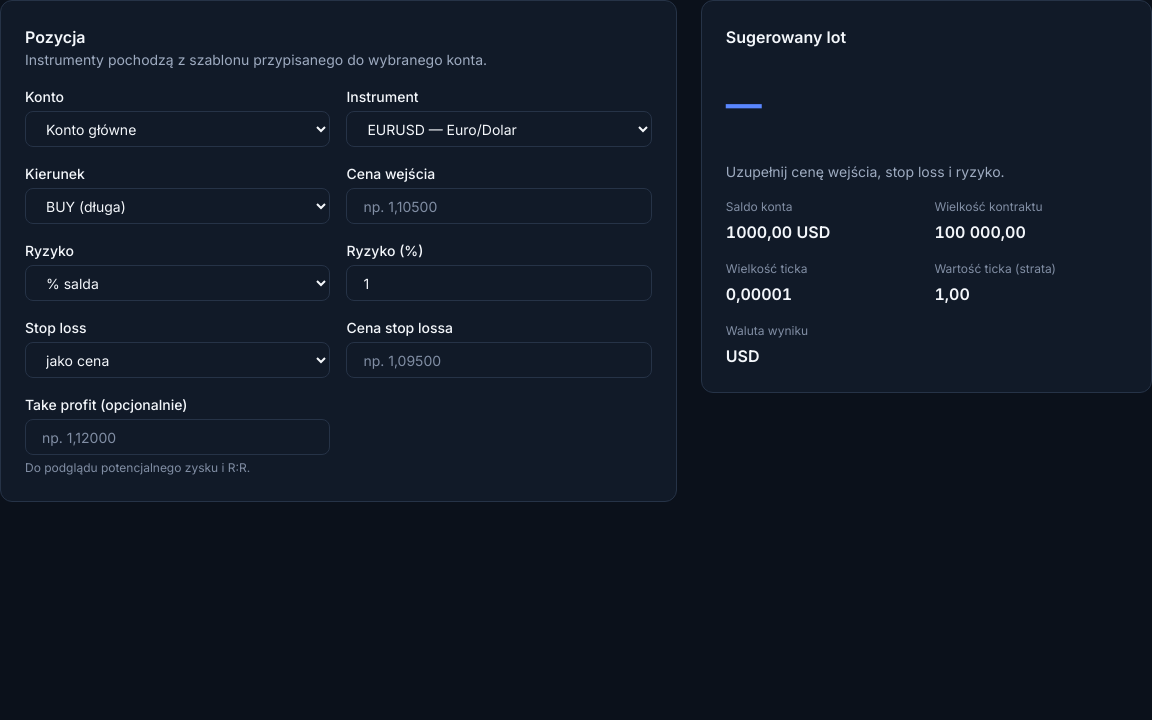
Test: KalkulatorPozycjiPage › odległość SL w punktach (1 miejsce po przecinku) NIE wywala ekranu (RangeError)
In the field labelled "Cena wejścia": (499, 206) [346, 188, 652, 224], type "1.10500"
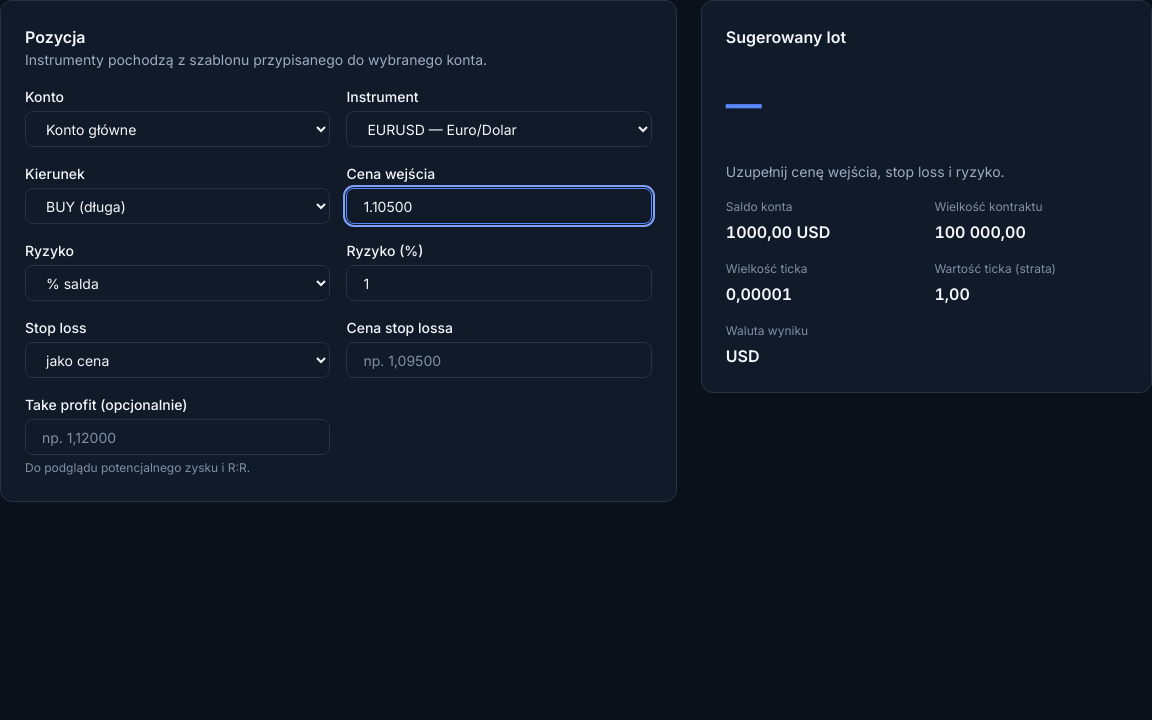
In the field labelled "Cena stop lossa": (499, 360) [346, 342, 652, 378], type "200"
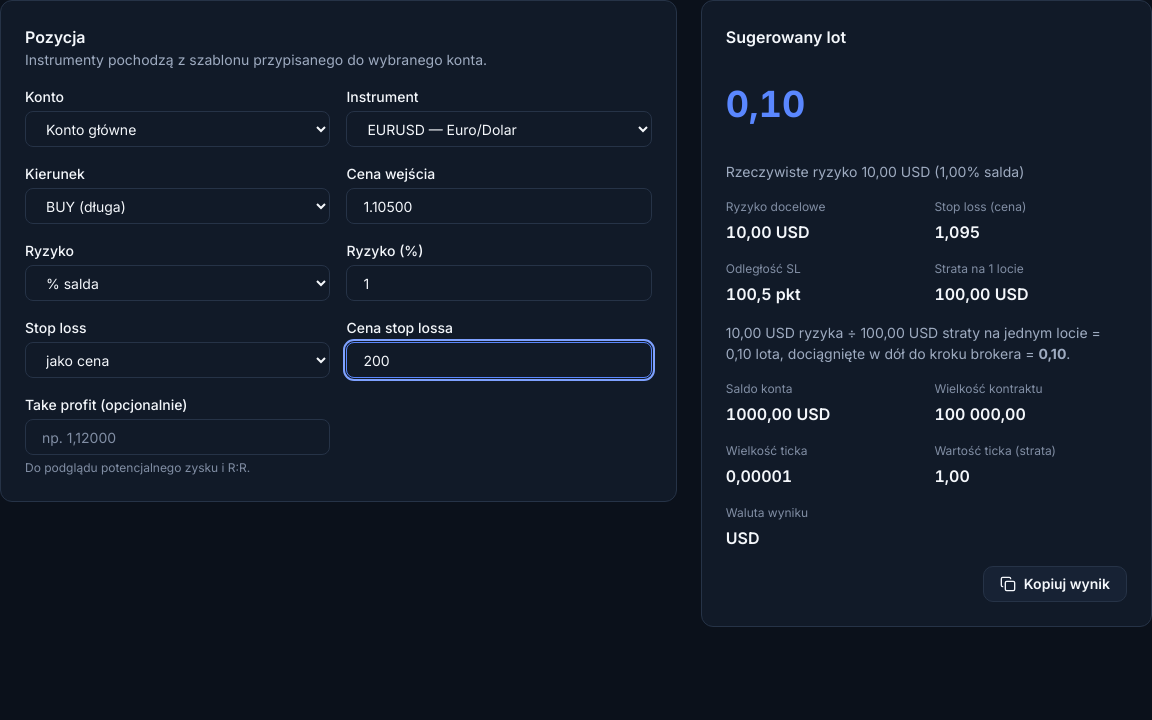
Check: the text "100,5 pkt" is shown, box [726, 284, 801, 304]
